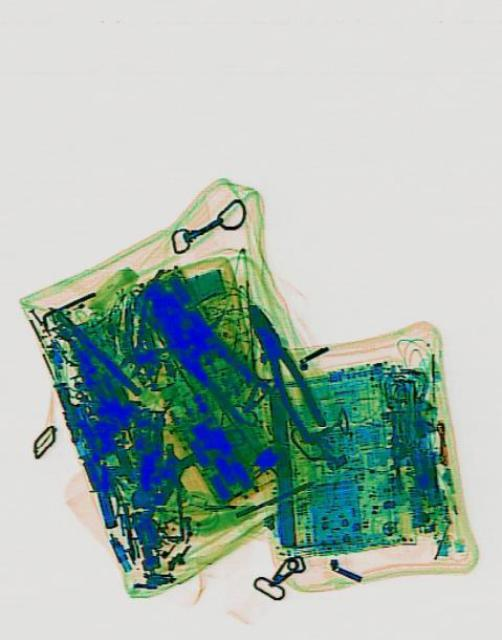Pliers: (130, 266, 270, 430), (235, 296, 327, 442)
